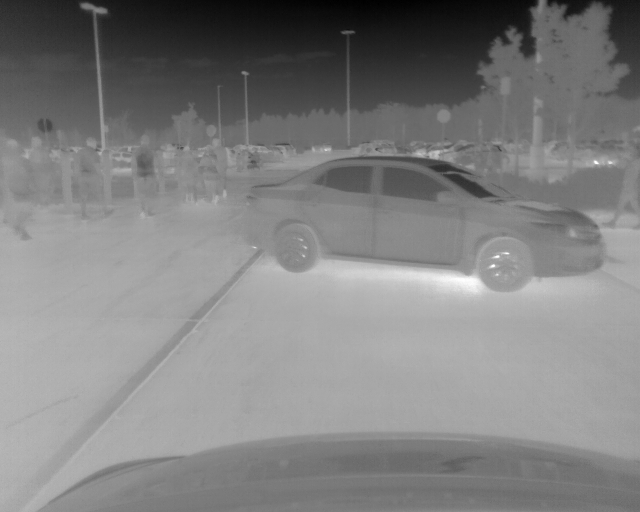car: (245, 156, 603, 291), (440, 144, 509, 164), (591, 149, 618, 168)
people: (76, 138, 116, 221), (603, 153, 640, 231), (6, 136, 32, 242), (132, 133, 159, 218), (30, 136, 54, 209), (175, 145, 199, 207), (211, 138, 234, 202), (199, 149, 220, 207), (486, 145, 504, 174), (252, 151, 265, 171), (236, 150, 247, 173)
